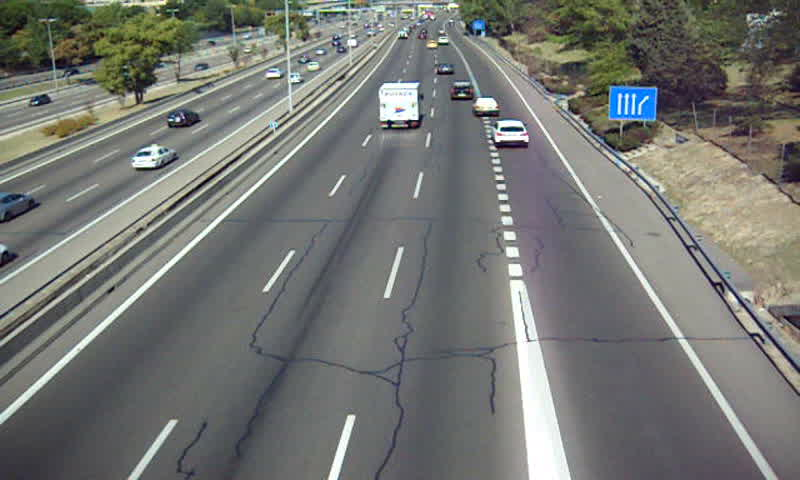car: (490, 119, 528, 145), (450, 81, 475, 101), (472, 97, 498, 114), (436, 63, 453, 75)
small-truck: (378, 81, 421, 128)
